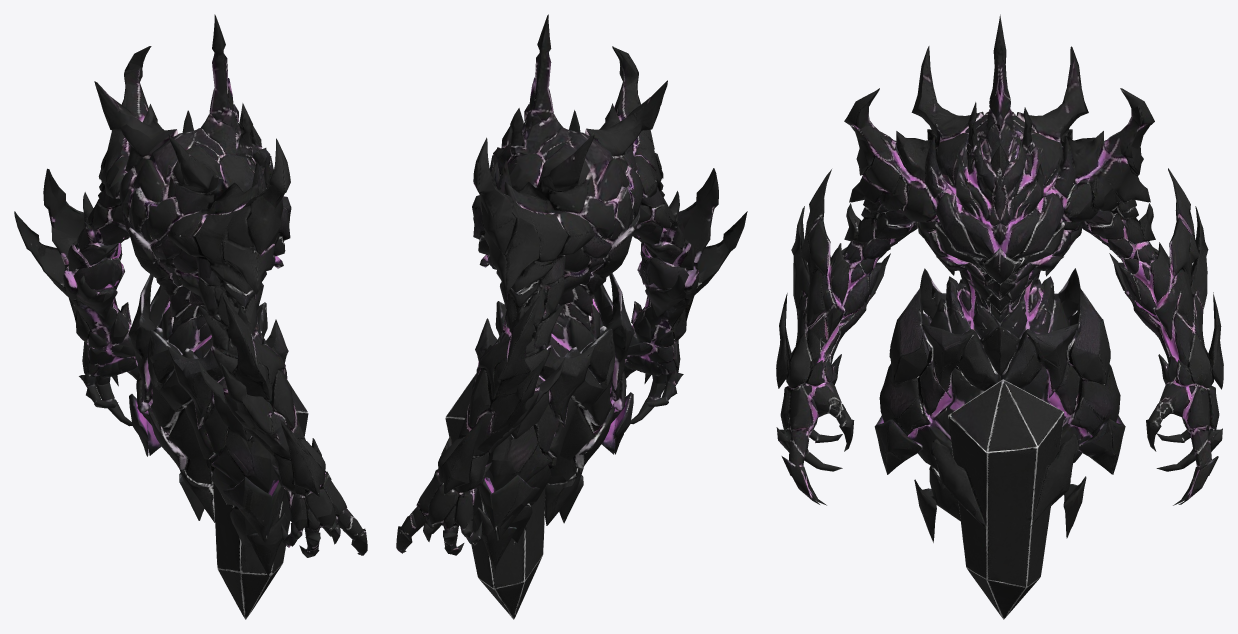
The model's file is Boss2.glb.
3 renders of one model, left to right at view 1: azimuth 30°, elevation 25°; view 2: azimuth 150°, elevation 25°; view 3: azimuth 270°, elevation 25°, orthographic. The views are drawn at different scales.
Visible parts, largest first — view 1: tripo_node_6eac46c7-e5b1-471b-92e9-129996f2129f; view 2: tripo_node_6eac46c7-e5b1-471b-92e9-129996f2129f; view 3: tripo_node_6eac46c7-e5b1-471b-92e9-129996f2129f.
Part boxes in pixels (box(x1,y1,x2,y2)): tripo_node_6eac46c7-e5b1-471b-92e9-129996f2129f: box(14, 14, 367, 619); tripo_node_6eac46c7-e5b1-471b-92e9-129996f2129f: box(396, 14, 747, 619); tripo_node_6eac46c7-e5b1-471b-92e9-129996f2129f: box(776, 14, 1223, 619).
Size of the model in its own units: 0.3092 by 0.9823 by 0.675.
Materials: 1 (1 with a texture image).
